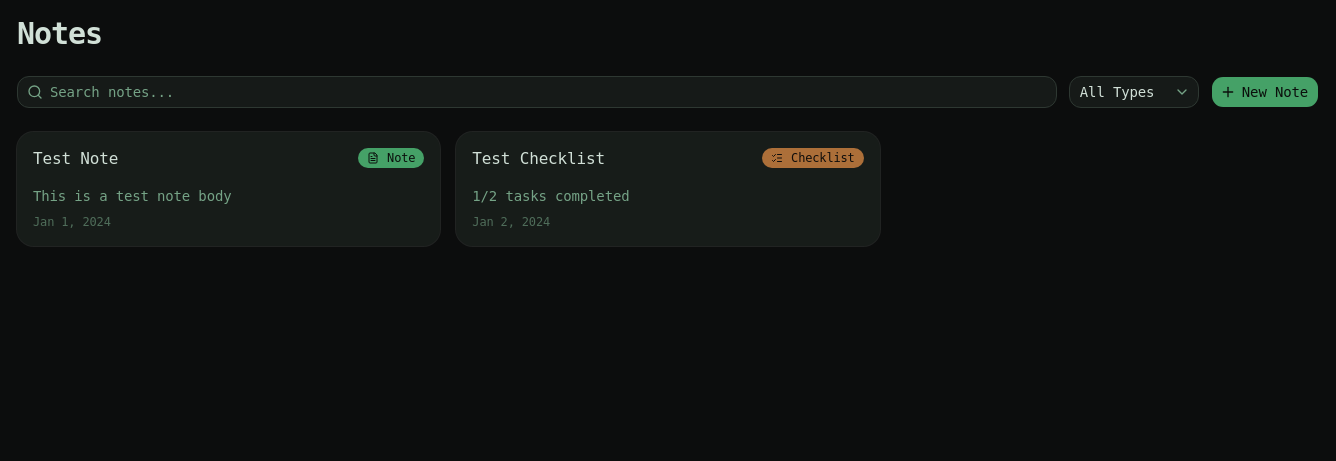
notes page — navigation and views › shows create form when clicking New Note
This screenshot has width=1336, height=461.
Expected: the text "Test Note" is shown, [33,148,118,170]
Click the button "New Note": [1265, 92] box [1211,76,1319,108]
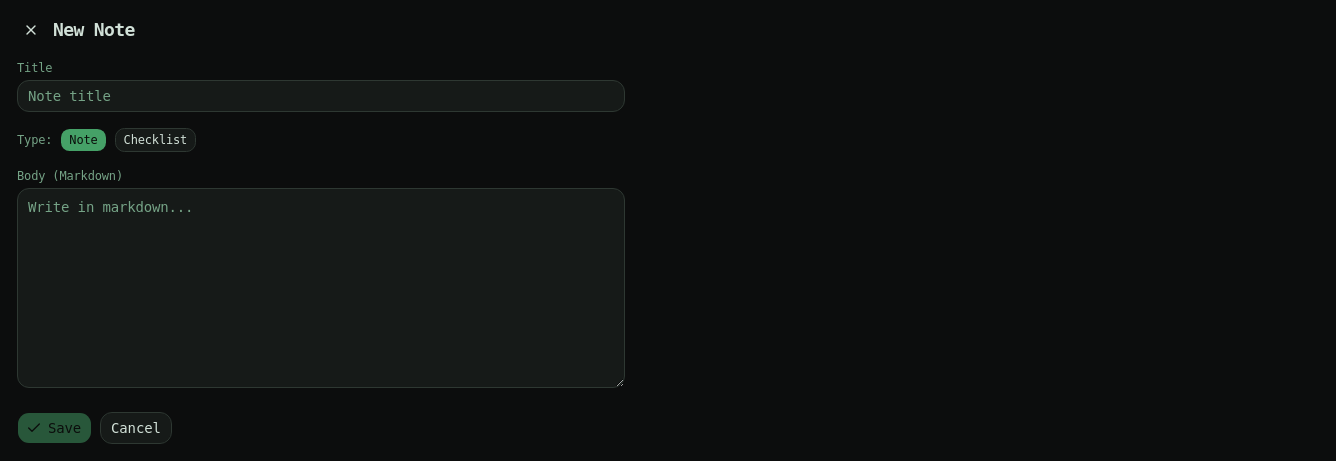
Expected: the heading "New Note" is shown, [53,16,135,44]
Now the field with placeholder "Note title" is shown, box [17,80,625,112]
Now the button "Save" is shown, box [17,412,92,444]
